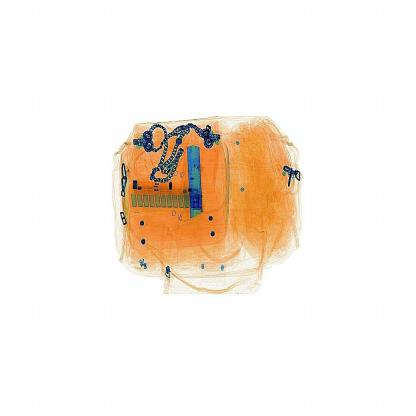pliers: (189, 141, 207, 221)
